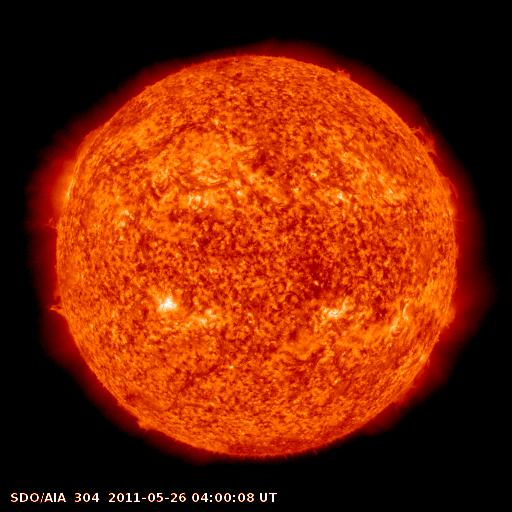prominence: (440, 239, 472, 331), (389, 353, 442, 408), (431, 174, 472, 229), (66, 118, 111, 168), (37, 279, 79, 331), (402, 117, 446, 163)
